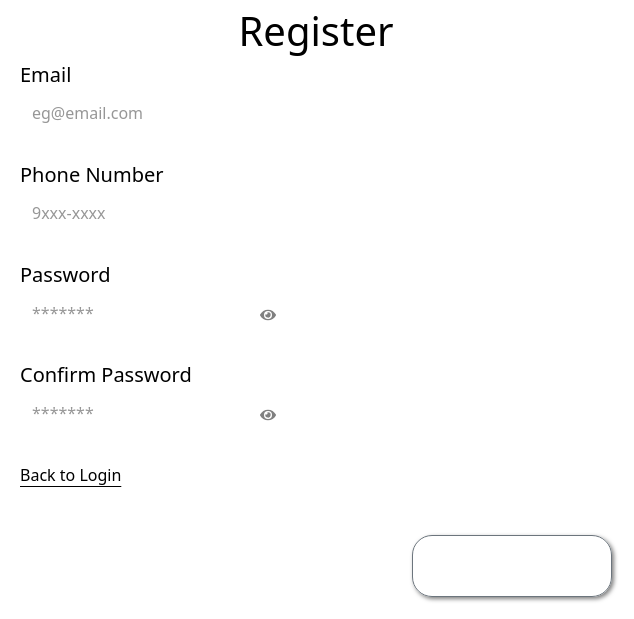
Test: Shows validation errors on empty submit
The width and height of the screenshot is (634, 619).
Click the button "Register" at (512, 566), box [412,535,612,597]
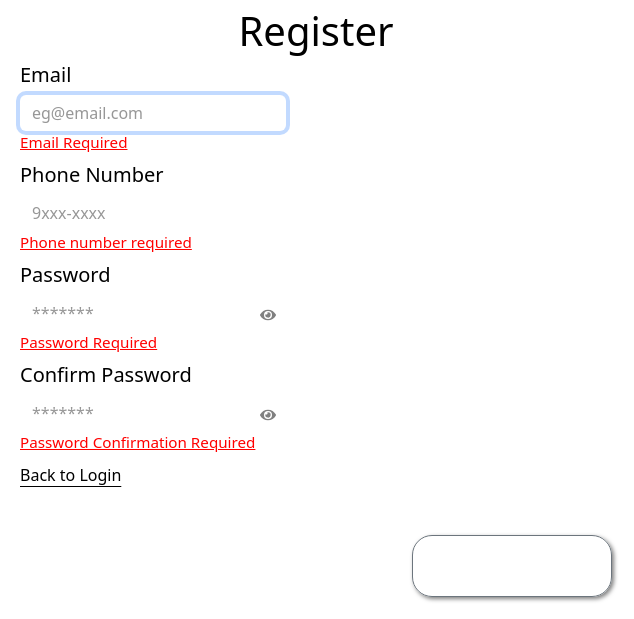
Expected: the text "Email Required" is shown, [20,132,128,152]
Expected: the text "Phone number required" is shown, [20,232,192,252]
Expected: the text "Password Required" is shown, [20,332,157,352]
